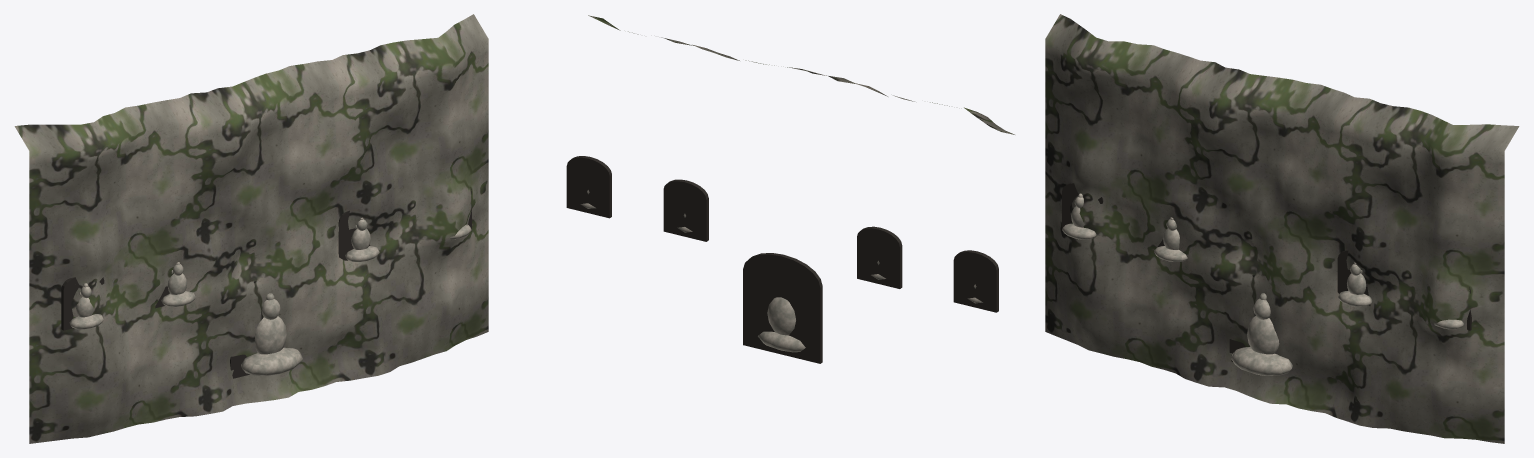
Rendered from buddha_cliff.glb.
3 renders of one model, left to right at view 1: azimuth 30°, elevation 25°; view 2: azimuth 150°, elevation 25°; view 3: azimuth 330°, elevation 25°, orthographic. The views are drawn at different scales.
Visible parts, largest first — view 1: CliffFace, Buddhas, Niches; view 2: Niches, Buddhas, CliffFace; view 3: CliffFace, Buddhas, Niches.
Boxes of the visible parts, x1,y1,x2,y2 form: CliffFace: (14, 14, 488, 443); Buddhas: (69, 217, 471, 375); Niches: (61, 189, 471, 378); Niches: (566, 156, 998, 363); Buddhas: (580, 190, 982, 352); CliffFace: (588, 15, 1014, 134); CliffFace: (1045, 14, 1519, 443); Buddhas: (1062, 193, 1463, 375); Niches: (1062, 182, 1471, 361).
Size of what is drawn, in the model's own units: 36 by 23 by 5.2.
Materials: 3 (2 with a texture image).
